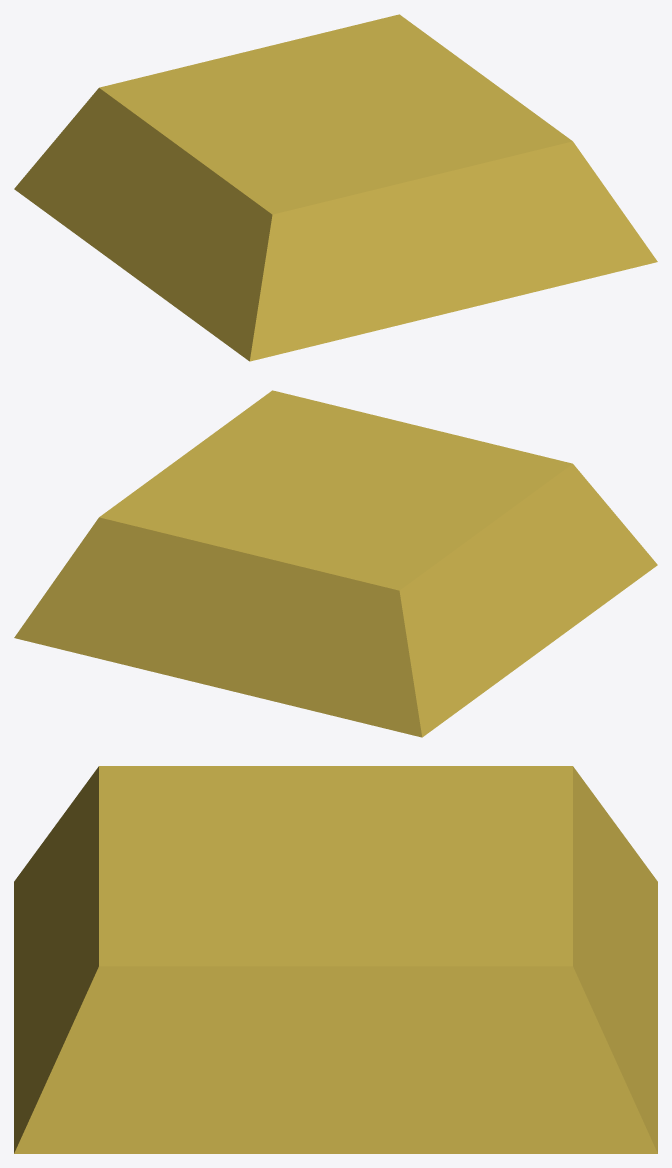
The model's file is 拉杆开关底座.fbx.
The picture shows the model from 3 angles, top to bottom: view 1: azimuth 30°, elevation 25°; view 2: azimuth 150°, elevation 25°; view 3: azimuth 270°, elevation 25°; orthographic projection. The views are drawn at different scales.
Visible parts, largest first — view 1: 拉杆底座; view 2: 拉杆底座; view 3: 拉杆底座.
Part boxes in pixels (x1,y1,x2,y2): 拉杆底座: (14, 14, 657, 361); 拉杆底座: (14, 390, 657, 737); 拉杆底座: (14, 766, 657, 1153).
Bounding box in the file's own units: 36.35 × 9.45 × 36.35.
